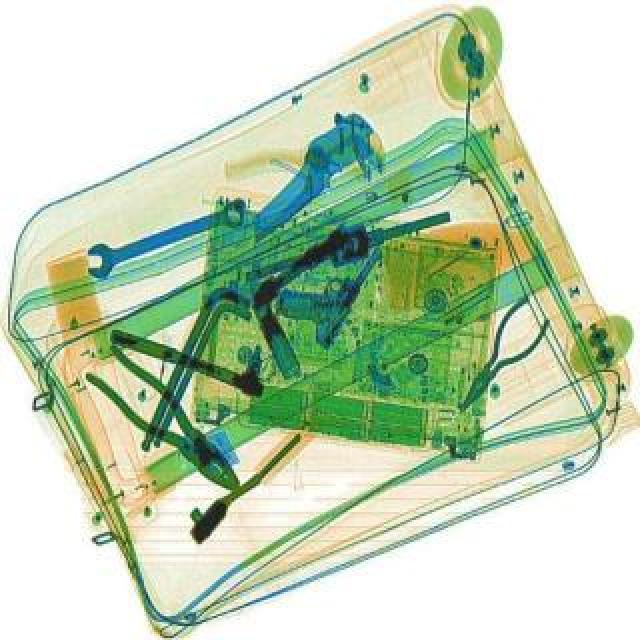gun: (268, 216, 396, 350)
scissors: (80, 190, 252, 280)
wrench: (82, 340, 260, 504), (442, 292, 558, 422)
